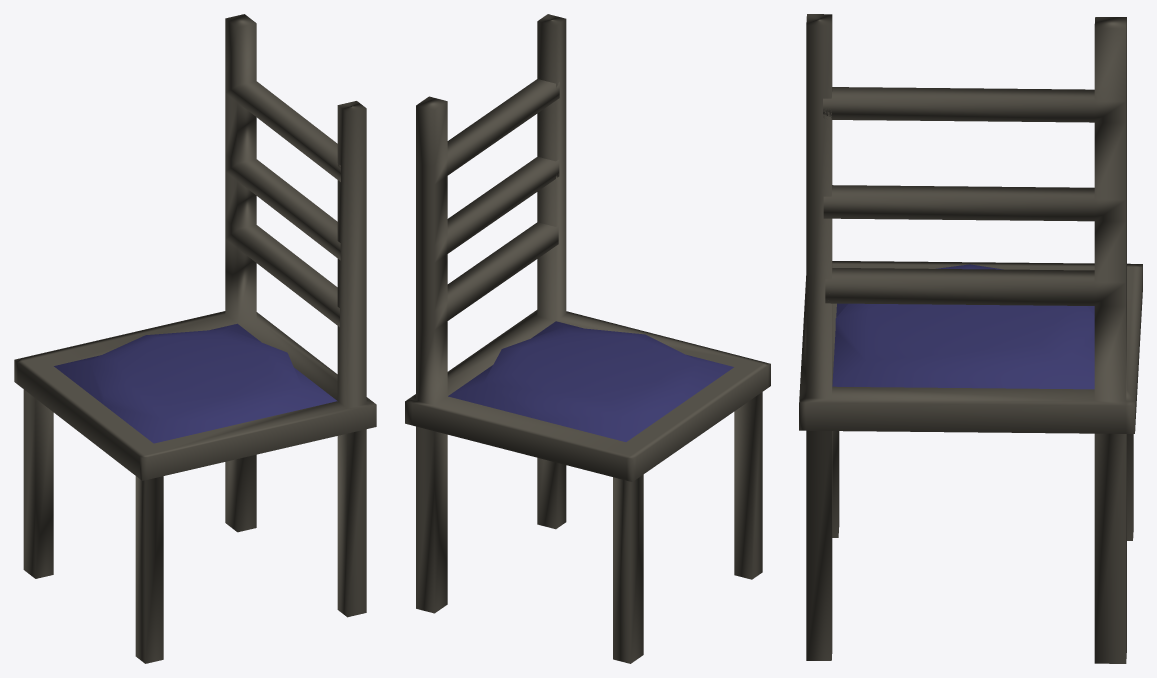
File: Chair.fbx
The picture shows the model from 3 angles, left to right: view 1: azimuth 30°, elevation 25°; view 2: azimuth 150°, elevation 25°; view 3: azimuth 270°, elevation 25°; orthographic projection. The views are drawn at different scales.
Parts seen in each view (by area): view 1: pasted__pasted__pCube19; view 2: pasted__pasted__pCube19; view 3: pasted__pasted__pCube19.
Part boxes in pixels (bbox=[...]): pasted__pasted__pCube19: bbox=[14, 14, 376, 663]; pasted__pasted__pCube19: bbox=[405, 14, 770, 663]; pasted__pasted__pCube19: bbox=[799, 14, 1142, 663].
Size of the model in its own units: 1.83 by 3.74 by 1.83.
